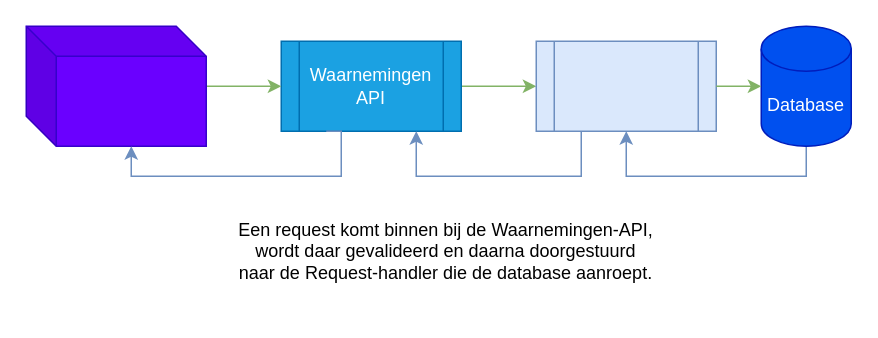
Image size: 878x338. Some labels were removed from this diagram. Here are the shapes that lost their labels. From the top down, the centre of each, then its label:
the point at 115,85: Webapplicatie
the point at 625,85: Waarnemingen Request
